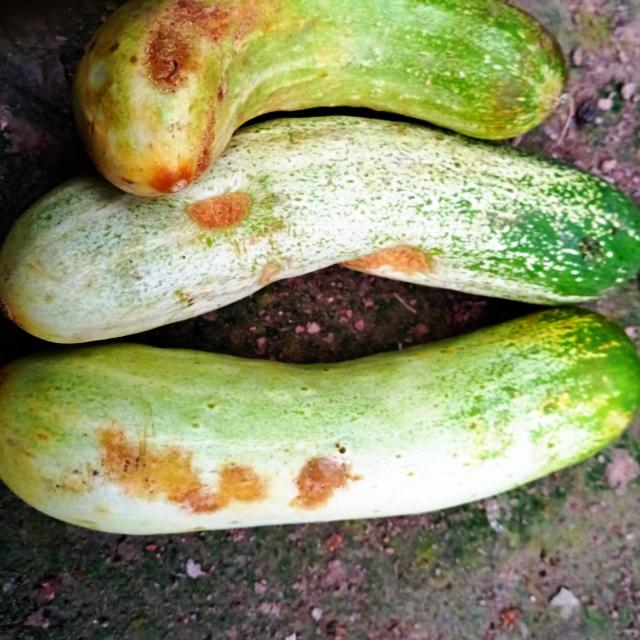Belly-Rot: (142, 0, 264, 234), (94, 421, 366, 514), (338, 239, 442, 282), (256, 259, 287, 287)
